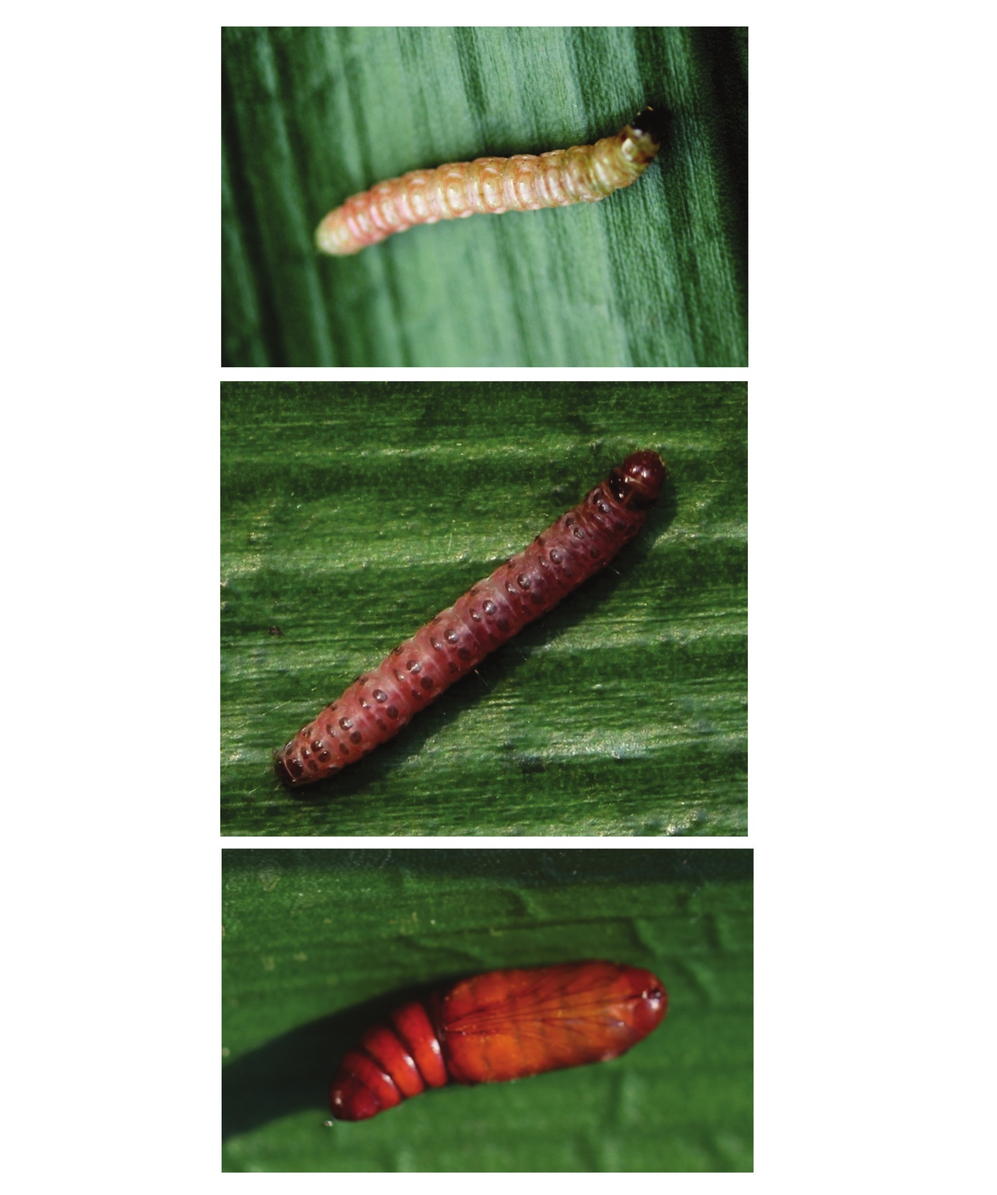Stink_Bug: (11, 282, 944, 581), (280, 544, 834, 711), (14, 69, 177, 265)
